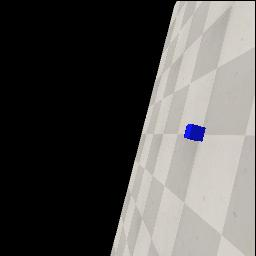box: (184, 124, 206, 142)
